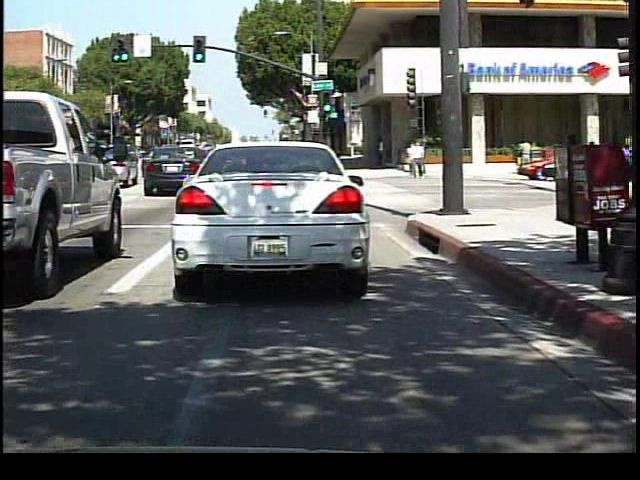person: (514, 135, 536, 177), (407, 136, 427, 179), (442, 136, 460, 176)
